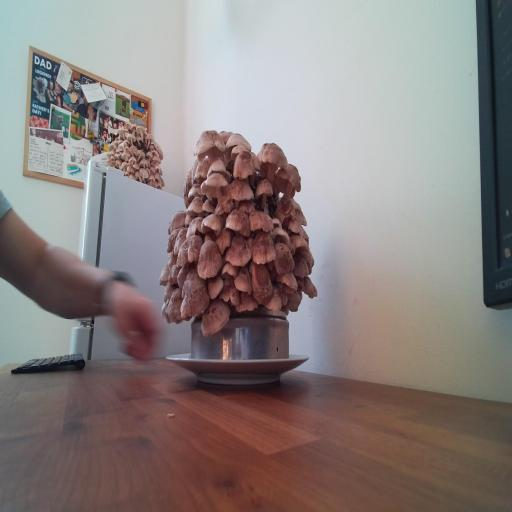Shiitake Mushroom: (167, 263, 221, 336), (246, 130, 296, 190), (187, 291, 242, 342), (185, 232, 232, 290), (217, 227, 259, 280), (247, 254, 276, 308), (264, 235, 297, 282), (218, 204, 260, 240), (169, 232, 211, 268), (216, 125, 258, 161), (260, 279, 294, 323), (280, 227, 319, 264), (269, 191, 303, 233), (223, 170, 256, 212), (207, 186, 241, 226), (273, 159, 303, 202), (248, 172, 280, 211), (208, 222, 241, 256), (265, 221, 299, 253), (194, 129, 225, 162), (251, 229, 276, 265), (161, 207, 193, 235), (296, 272, 323, 305), (167, 222, 192, 257), (287, 195, 310, 231), (200, 171, 229, 197), (232, 149, 255, 181), (282, 214, 311, 239), (225, 137, 253, 162), (180, 214, 209, 238), (233, 263, 255, 294), (273, 267, 302, 290), (248, 209, 275, 232), (191, 155, 213, 183), (180, 166, 195, 207), (166, 286, 183, 322), (173, 258, 192, 290), (201, 210, 223, 236), (247, 151, 262, 189), (219, 279, 240, 306), (164, 222, 181, 255), (206, 273, 226, 301), (159, 277, 178, 305), (215, 120, 236, 145), (184, 179, 208, 199), (179, 205, 199, 228), (235, 292, 258, 312), (286, 288, 303, 314), (206, 156, 226, 178), (166, 262, 182, 287), (157, 260, 171, 288), (293, 254, 309, 278), (163, 252, 181, 273), (221, 261, 240, 278), (238, 198, 257, 215), (187, 196, 204, 214), (202, 197, 216, 213), (189, 158, 197, 186), (160, 296, 170, 318), (272, 218, 282, 227)
